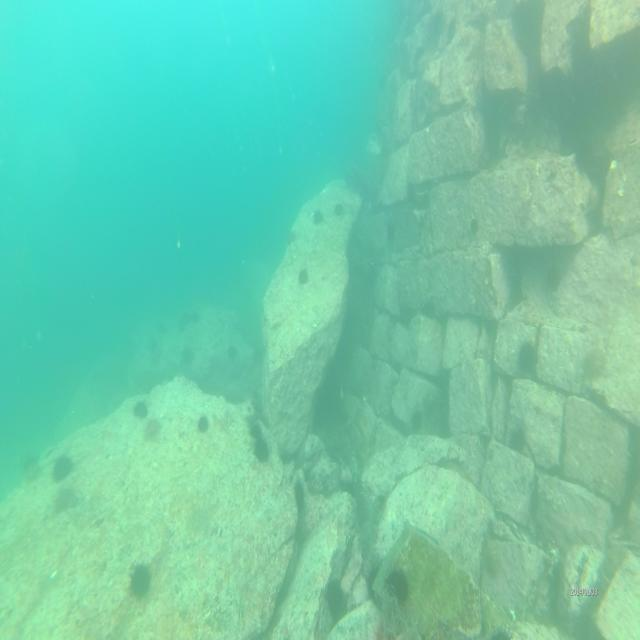echinus: (126, 558, 157, 606), (384, 560, 410, 608), (324, 573, 348, 617), (520, 340, 538, 380), (506, 422, 527, 456), (587, 343, 605, 381), (143, 414, 163, 446), (52, 452, 74, 481), (293, 473, 308, 514), (545, 262, 565, 291), (131, 394, 150, 423), (408, 408, 426, 438), (27, 452, 43, 483), (146, 334, 161, 367), (254, 441, 272, 466), (223, 339, 241, 364), (247, 416, 263, 442), (383, 220, 398, 245), (182, 341, 196, 367), (468, 216, 480, 242), (196, 409, 208, 435), (311, 206, 325, 226), (296, 267, 311, 285), (334, 198, 346, 219)
